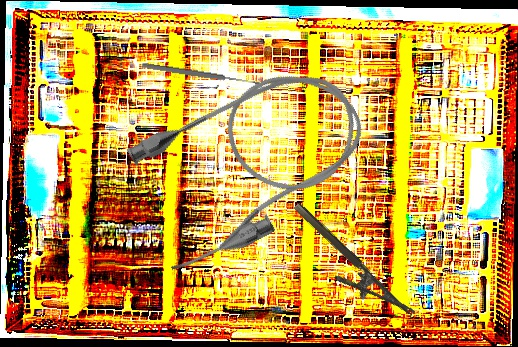Cannula: (112, 45, 388, 283)
Needle Holder: (278, 200, 416, 336)
Surgical Spoon: (141, 61, 261, 88)
